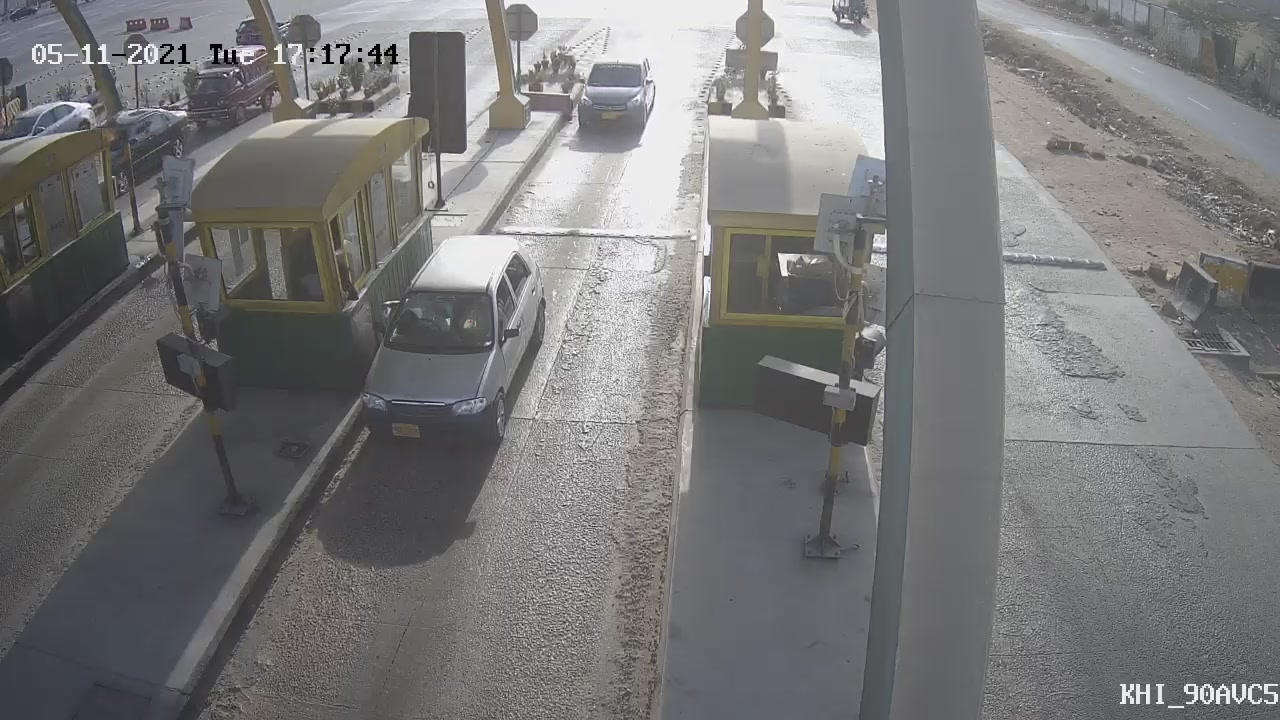F1: (307, 222, 557, 474), (560, 39, 669, 153)
